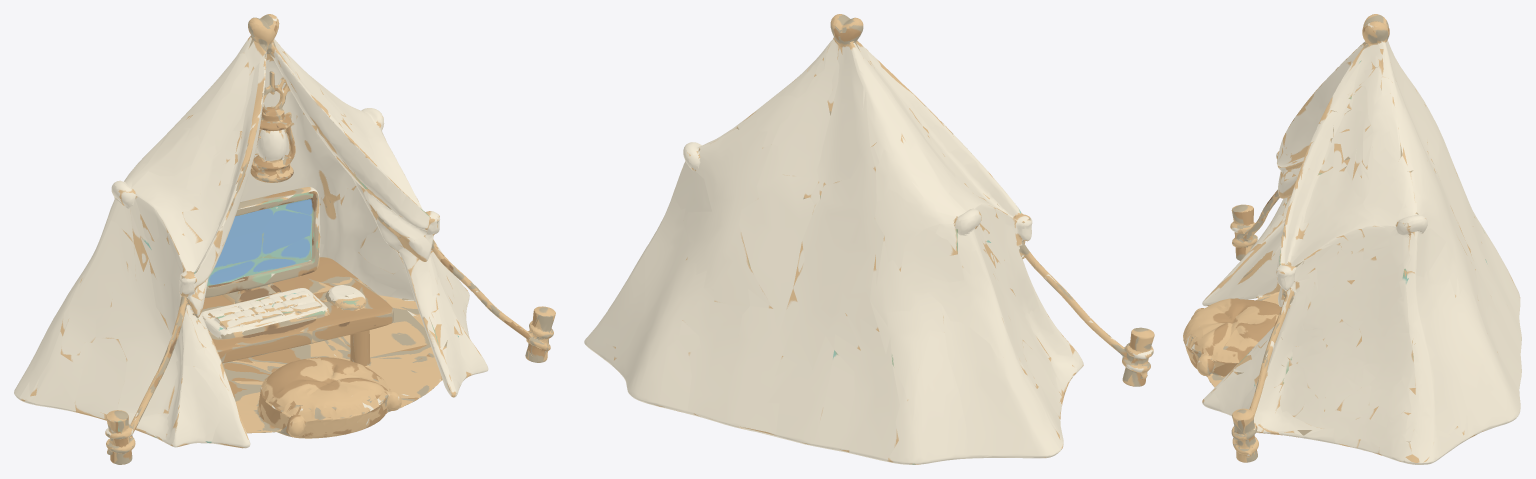
The model's file is tent-workstation-flat-source-v4.glb.
The picture shows the model from 3 angles, left to right: view 1: azimuth 30°, elevation 25°; view 2: azimuth 150°, elevation 25°; view 3: azimuth 270°, elevation 25°; orthographic projection. The views are drawn at different scales.
Visible parts, largest first — view 1: tent-workstation-flat-source-v4; view 2: tent-workstation-flat-source-v4; view 3: tent-workstation-flat-source-v4.
Boxes of the visible parts, box(x1,y1,x2,y2) form: tent-workstation-flat-source-v4: box(14, 14, 555, 464); tent-workstation-flat-source-v4: box(584, 14, 1154, 464); tent-workstation-flat-source-v4: box(1183, 14, 1521, 464).
Size of the model in its own units: 1.9 by 1.41 by 1.26.
1 material, 1 textured.
